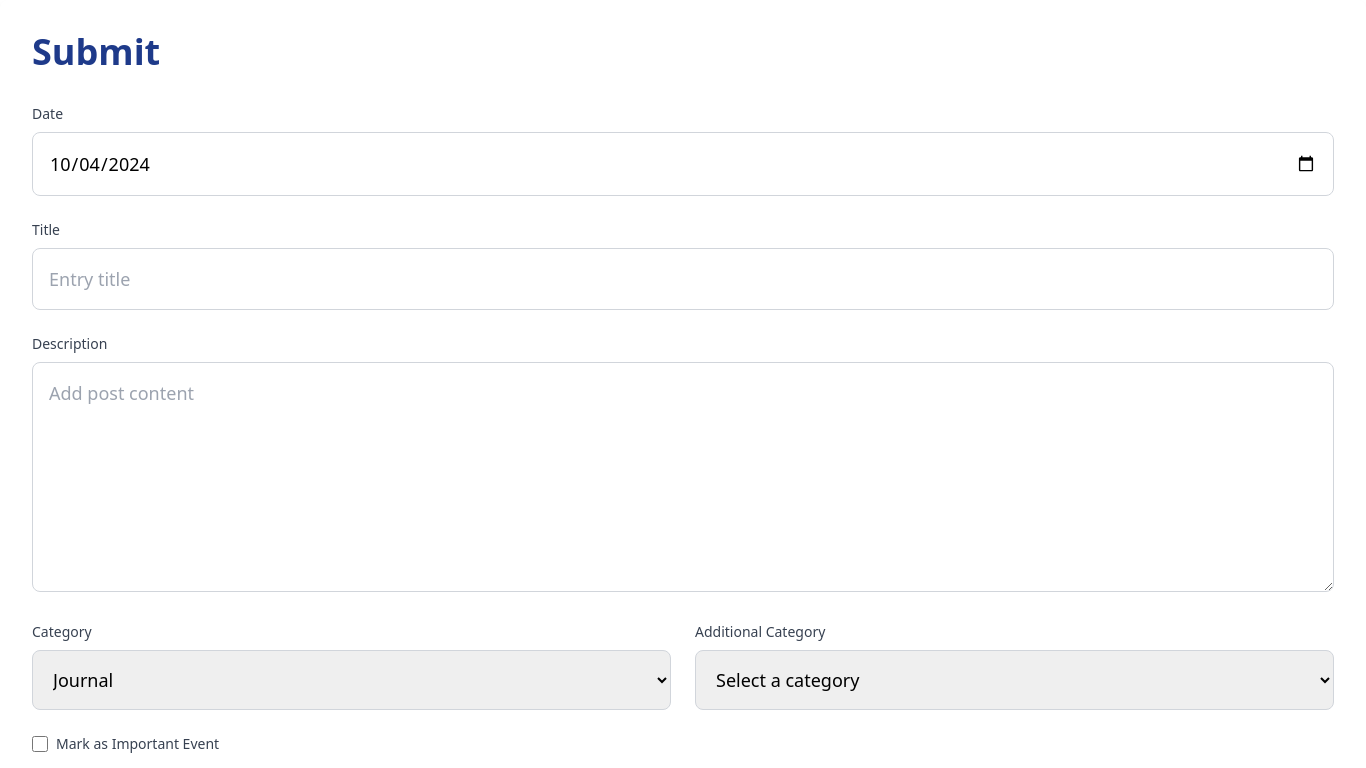
Test case: EntryAddEditForm Component › #4 Given component, when form is submitted, then disable submit button and show loading state
Type "Title" into the field labelled "Title" at x=683, y=279, box [32, 248, 1334, 310]
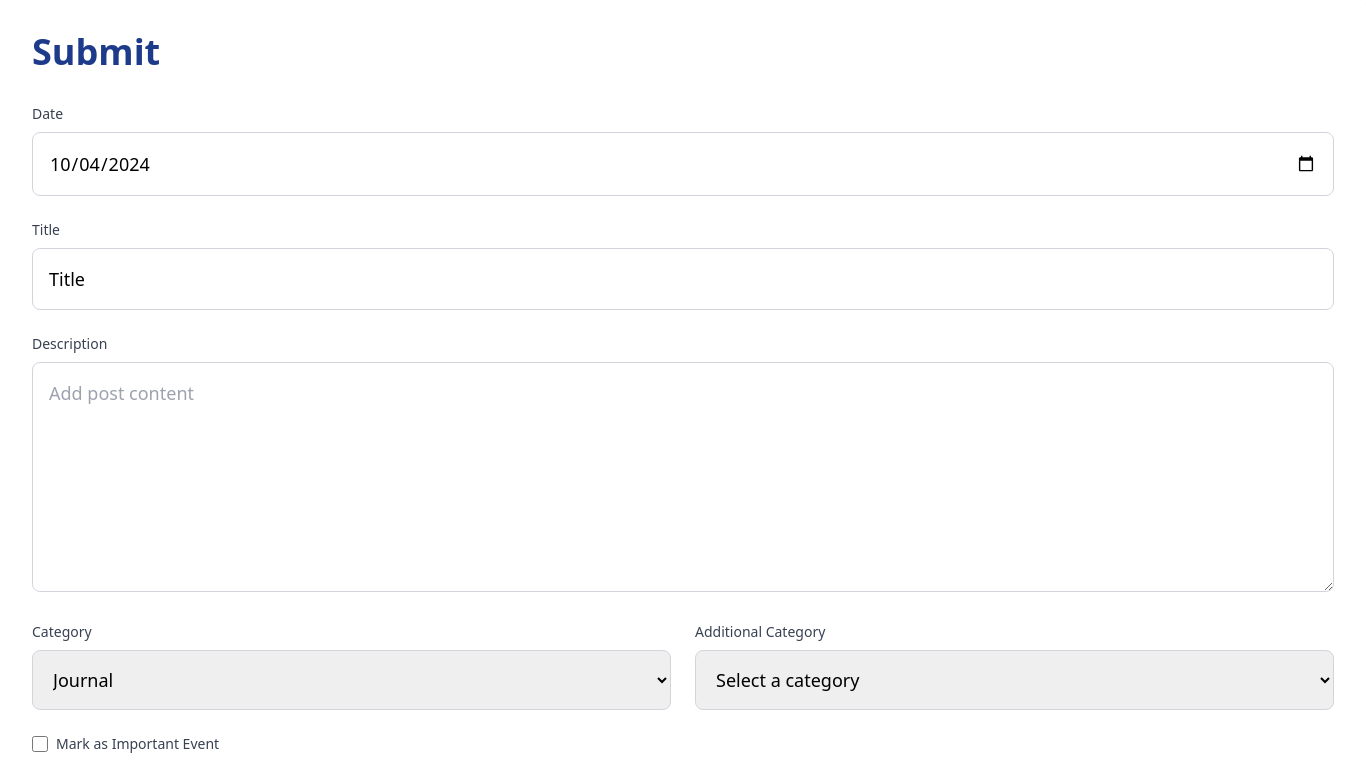
Type "Content" into the text box labelled "Description" at x=683, y=477, box [32, 362, 1334, 592]
(page scrolled)
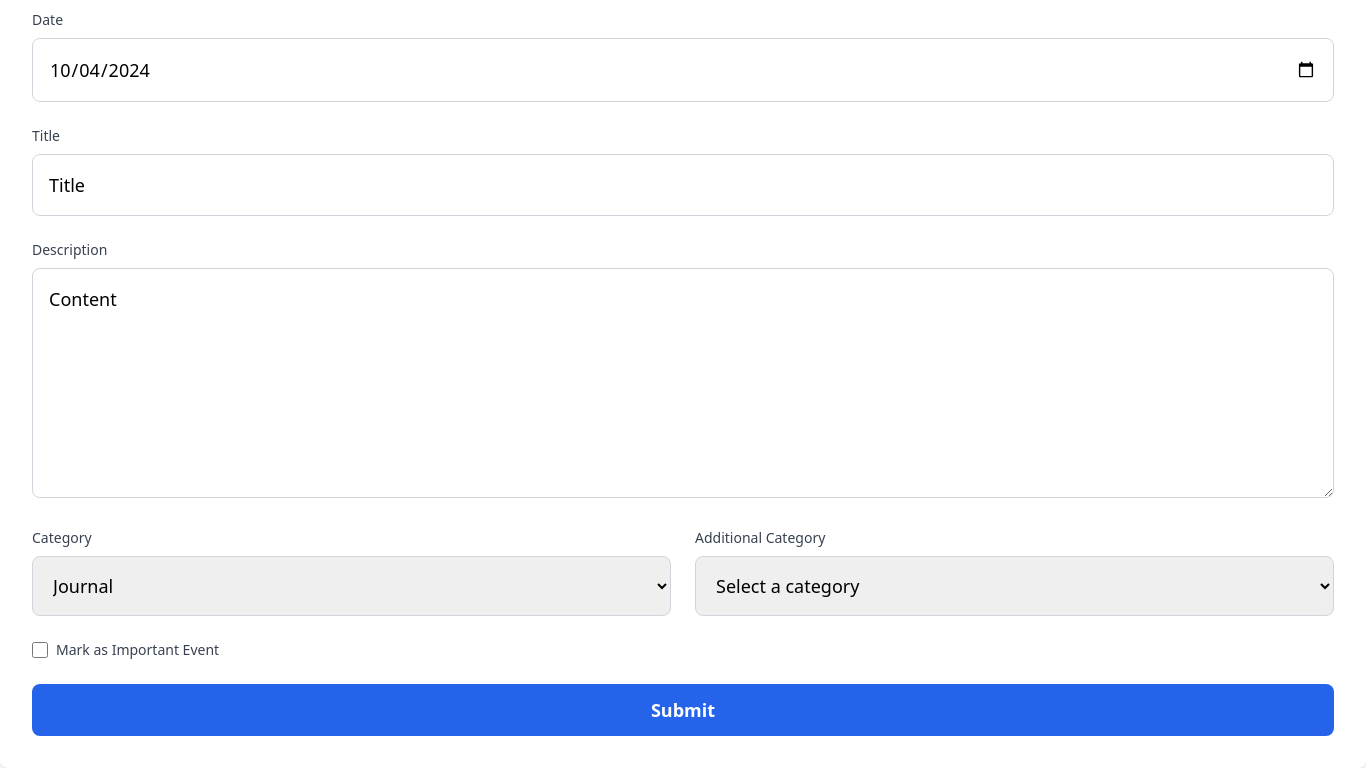
Click the button with test id "submit-button" at x=683, y=710, box [32, 684, 1334, 736]
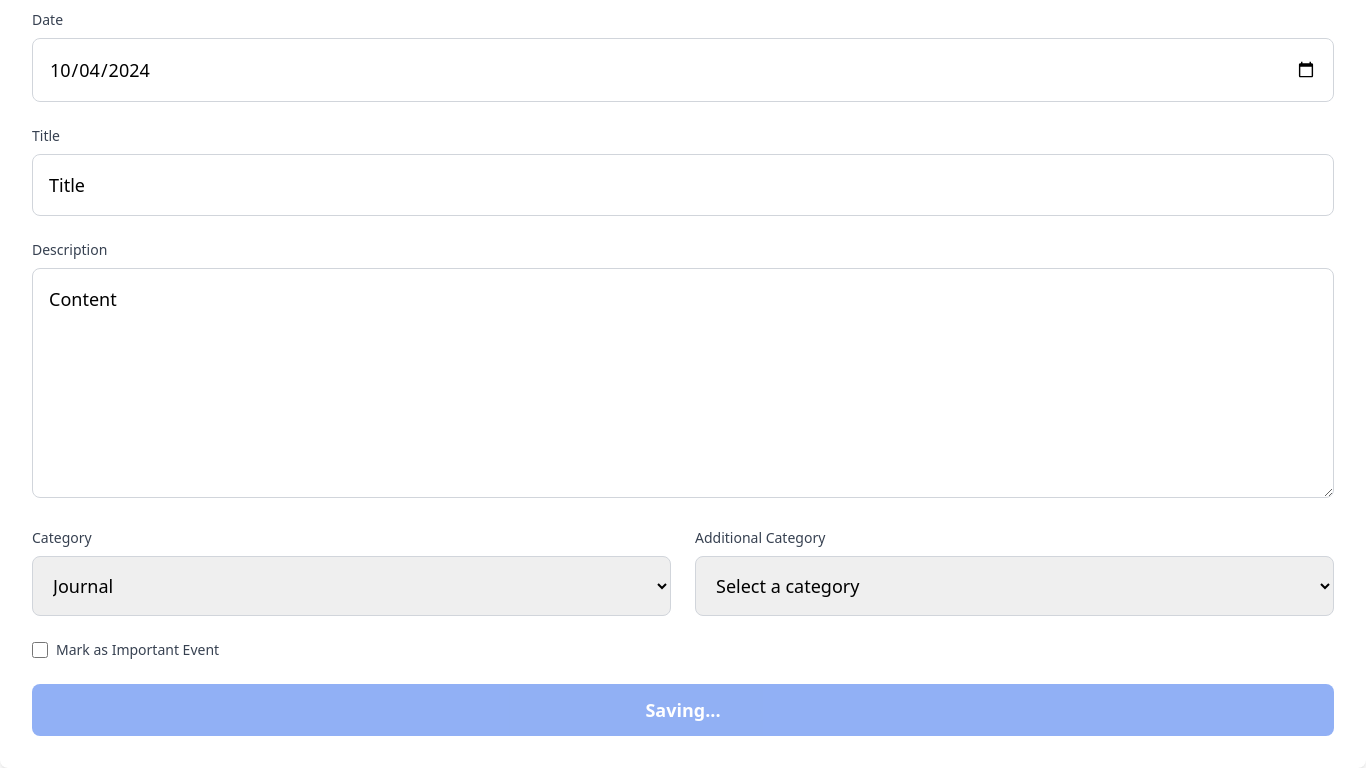
Now the button with test id "submit-button" is disabled, box [32, 684, 1334, 736]
